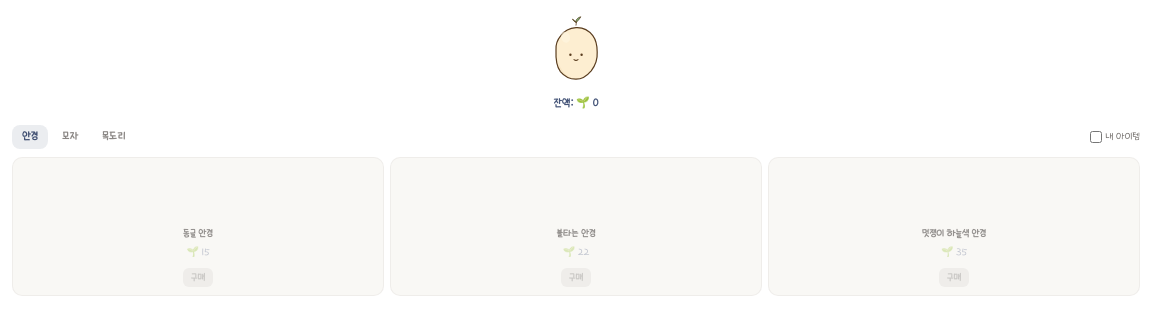
Test: ShopTab › 영역 탭 변경 시 해당 슬롯 카드만 표시
Expected: the text "동글 안경" is shown, [183,226,213,241]
# "모자" 탭 클릭.
Click the button "모자" at [70, 137], box [52,124,88,149]
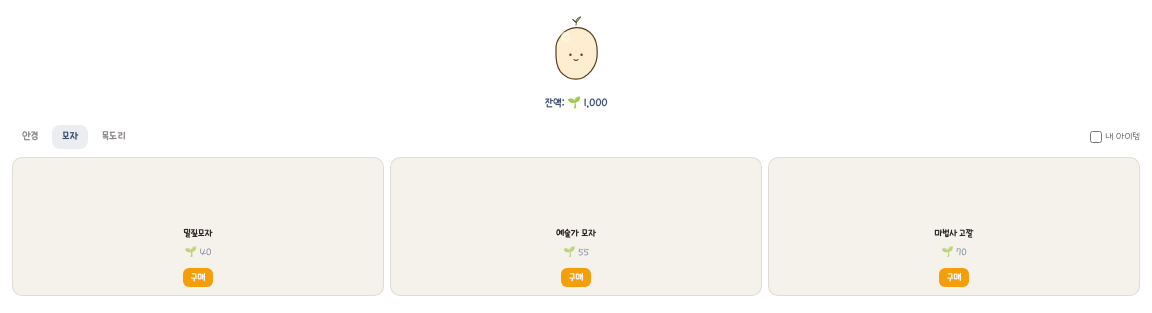
Result: the text "밀짚모자" is shown at [183,226,212,241]
Result: the text "예술가 모자" is shown at [556,226,596,241]
Result: the text "마법사 고깔" is shown at [935,226,973,241]
